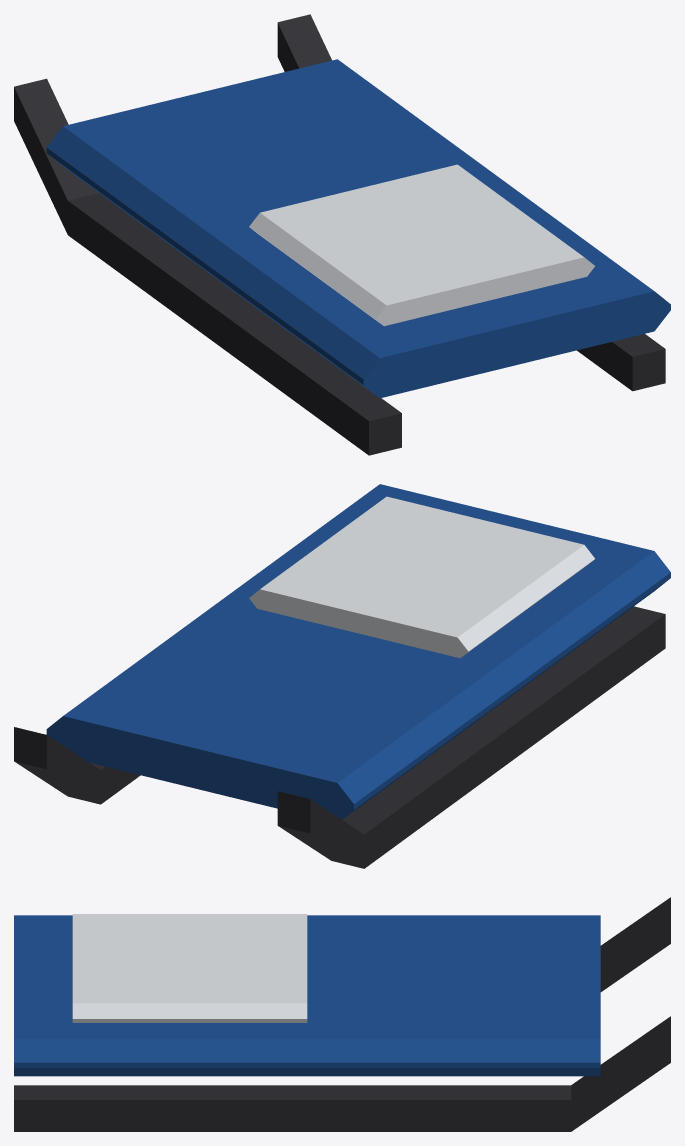
Rendered from kidsled_lo.glb.
3 views of the same model, one above another, from view 1: azimuth 30°, elevation 25°; view 2: azimuth 150°, elevation 25°; view 3: azimuth 270°, elevation 25° (orthographic). The views are drawn at different scales.
Parts seen in each view (by area): view 1: body.016; view 2: body.016; view 3: body.016.
Boxes of the visible parts, x1,y1,x2,y2 form: body.016: [14, 14, 670, 455]; body.016: [14, 484, 670, 868]; body.016: [14, 897, 670, 1131].
Bounding box in the file's own units: 0.56 × 0.2 × 1.12.
